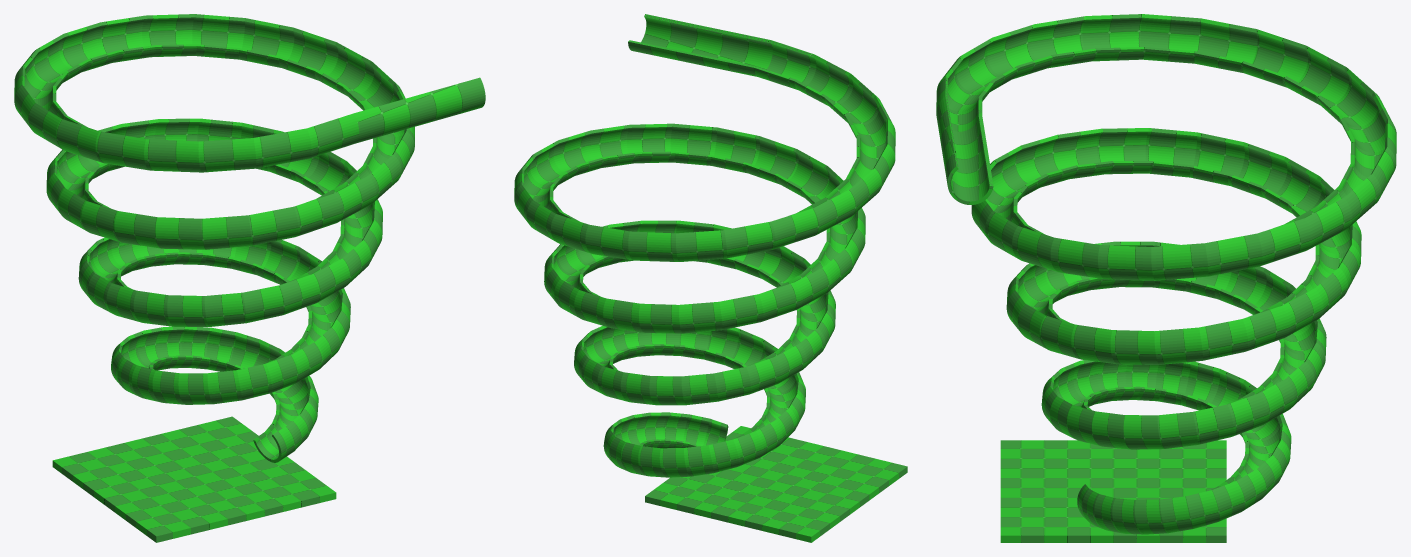
File: spiral.fbx
3 renders of one model, left to right at view 1: azimuth 30°, elevation 25°; view 2: azimuth 150°, elevation 25°; view 3: azimuth 270°, elevation 25°, orthographic. The views are drawn at different scales.
Visible parts, largest first — view 1: Spiral.003, SpiralPlatform.001; view 2: Spiral.003, SpiralPlatform.001; view 3: Spiral.003, SpiralPlatform.001.
Boxes of the visible parts, x1,y1,x2,y2 form: Spiral.003: (14,14,485,462); SpiralPlatform.001: (52,416,336,542); Spiral.003: (514,14,895,477); SpiralPlatform.001: (645,426,907,542); Spiral.003: (936,14,1396,534); SpiralPlatform.001: (1000,440,1226,542).
Size of the model in its own units: 1562 by 1724 by 1625.
